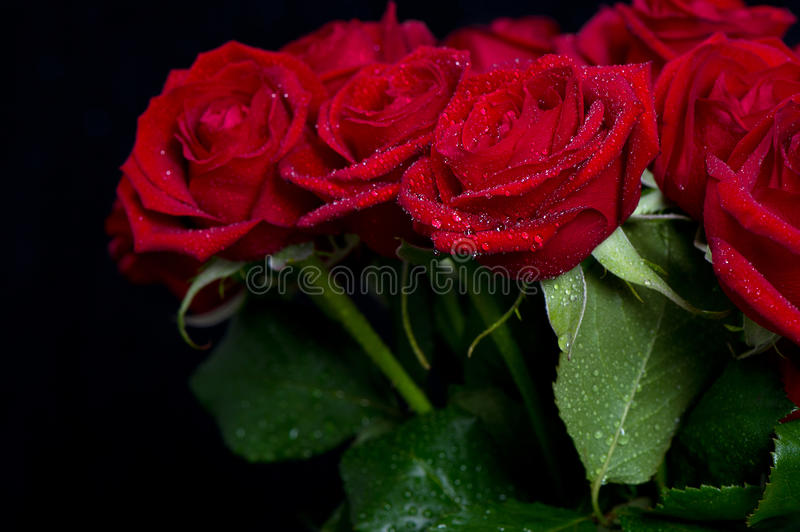RedRose: (102, 32, 332, 294), (423, 35, 663, 276), (306, 9, 475, 223), (697, 71, 800, 341), (648, 28, 800, 187), (589, 0, 800, 67)
